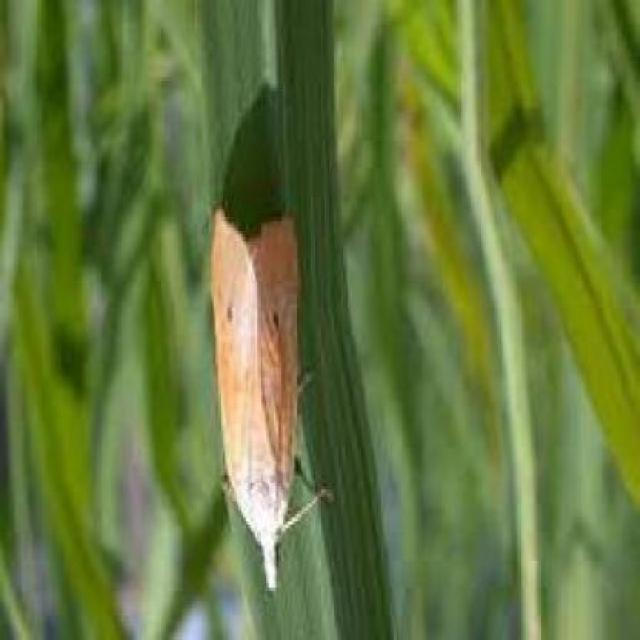stem-borer: (208, 206, 335, 594)
